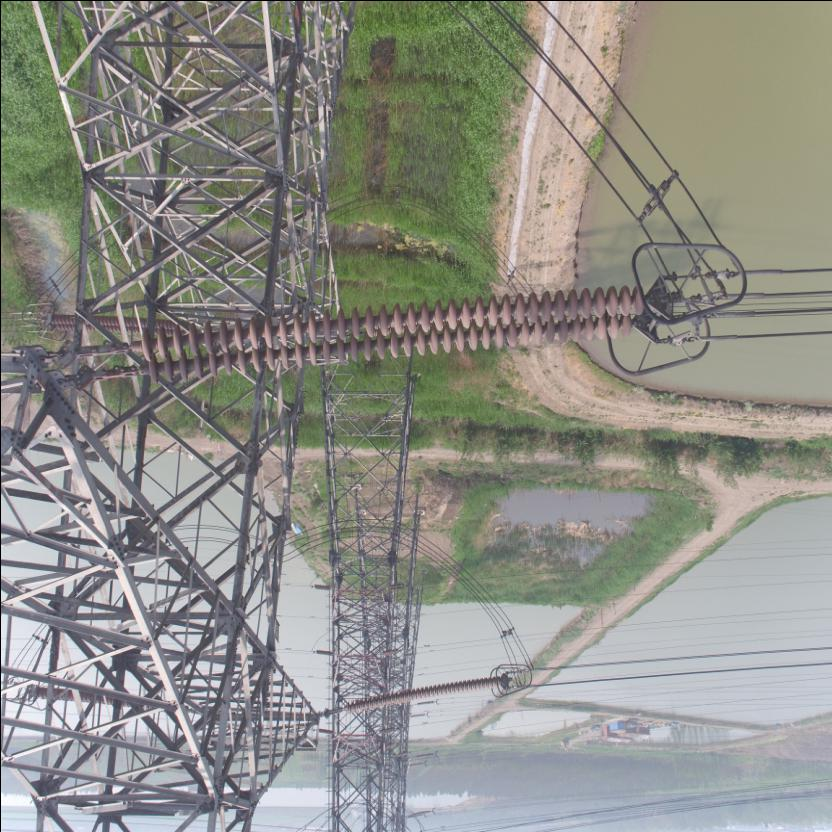insulator: (103, 283, 654, 388), (332, 676, 502, 714)
